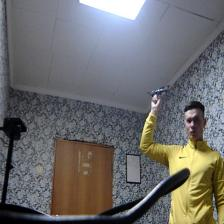drone: (147, 84, 173, 98)
